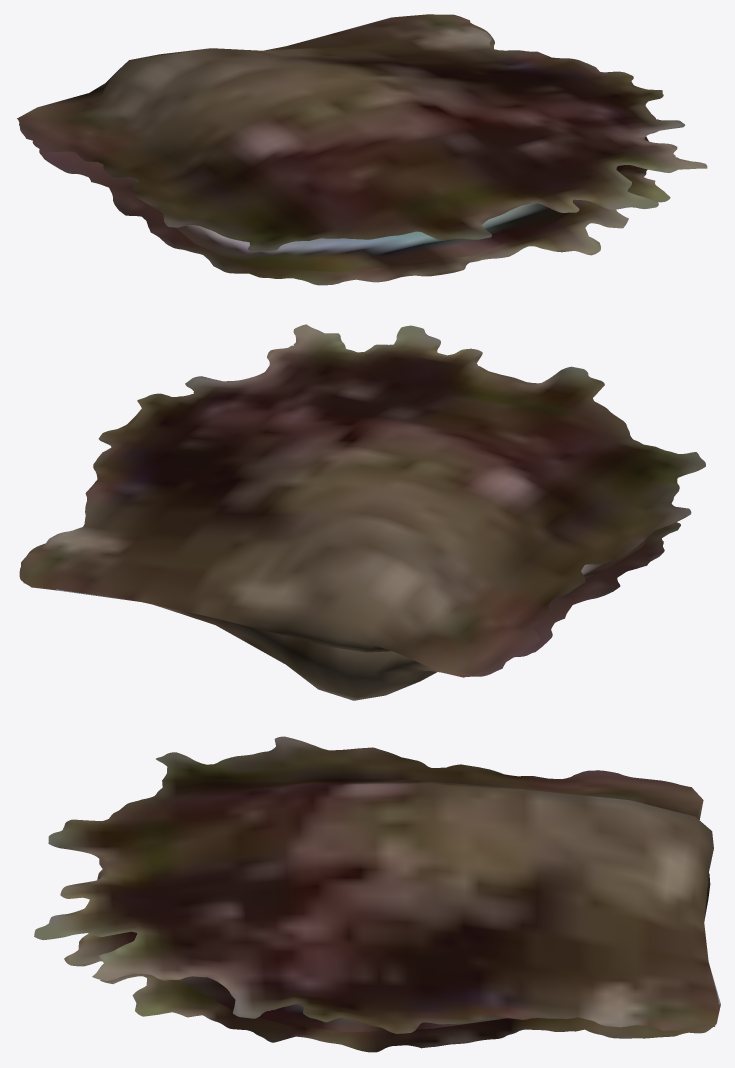
Rendered from pearl-oyster.glb.
The picture shows the model from 3 angles, top to bottom: view 1: azimuth 30°, elevation 25°; view 2: azimuth 150°, elevation 25°; view 3: azimuth 270°, elevation 25°; orthographic projection. The views are drawn at different scales.
Size of the model in its own units: 2.28 by 0.6074 by 2.23.
Materials: 1 (1 with a texture image).
